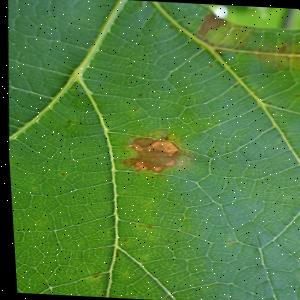Folha: (0, 0, 300, 300)
Fungo: (192, 10, 300, 75), (118, 130, 196, 176), (126, 134, 180, 157), (120, 152, 177, 173), (299, 61, 300, 69)
